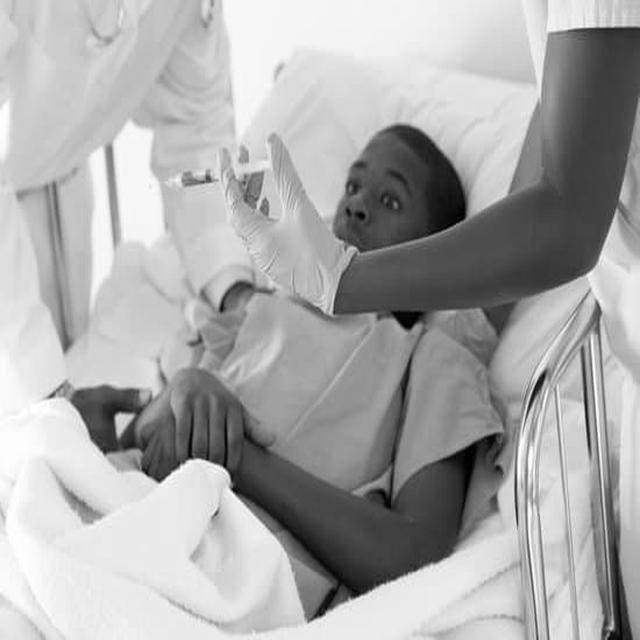Fear: (334, 125, 419, 242)
